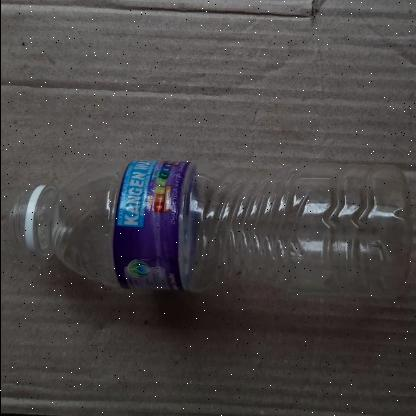Plastic Bottle: (10, 160, 414, 300)
